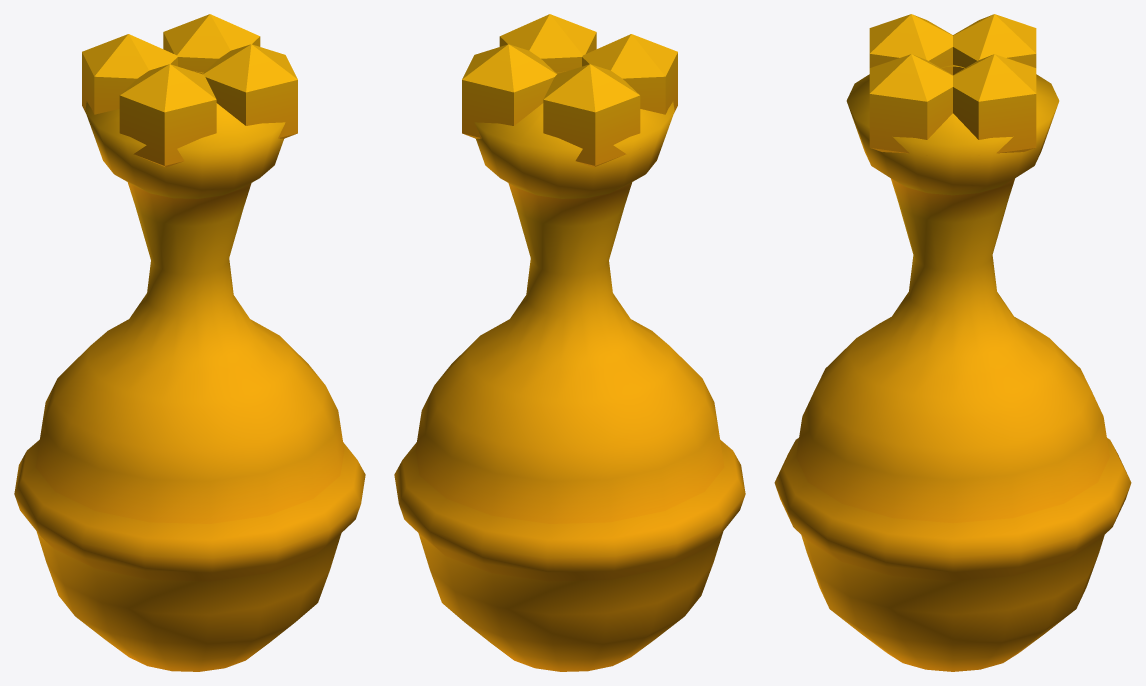
File: Poporo2.fbx
The picture shows the model from 3 angles, left to right: view 1: azimuth 30°, elevation 25°; view 2: azimuth 150°, elevation 25°; view 3: azimuth 270°, elevation 25°; orthographic projection.
Visible parts, largest first — view 1: Poporo.001; view 2: Poporo.001; view 3: Poporo.001.
Part boxes in pixels (bbox=[...]): Poporo.001: bbox=[14, 14, 365, 671]; Poporo.001: bbox=[394, 14, 745, 671]; Poporo.001: bbox=[774, 14, 1131, 671].
Bounding box in the file's own units: 126 × 237 × 126.
